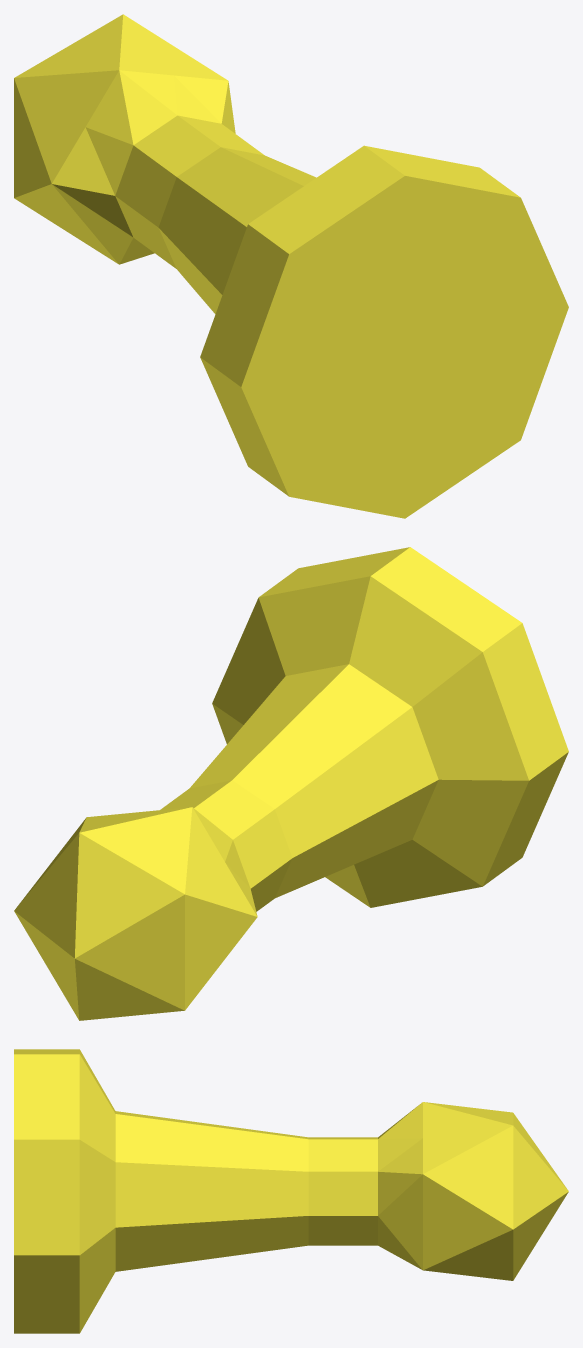
File: Game_Piece_Yellow.fbx
3 views of the same model, one above another, from view 1: azimuth 30°, elevation 25°; view 2: azimuth 150°, elevation 25°; view 3: azimuth 270°, elevation 25° (orthographic). The views are drawn at different scales.
Visible parts, largest first — view 1: Game_Piece_Yellow; view 2: Game_Piece_Yellow; view 3: Game_Piece_Yellow.
Boxes of the visible parts, x1=… form: Game_Piece_Yellow: x1=14, y1=14, x2=568, y2=518; Game_Piece_Yellow: x1=14, y1=547, x2=568, y2=1020; Game_Piece_Yellow: x1=14, y1=1049, x2=568, y2=1333.
Bounding box in the file's own units: 0.6 × 0.6 × 1.1.
1 material, 1 textured.
